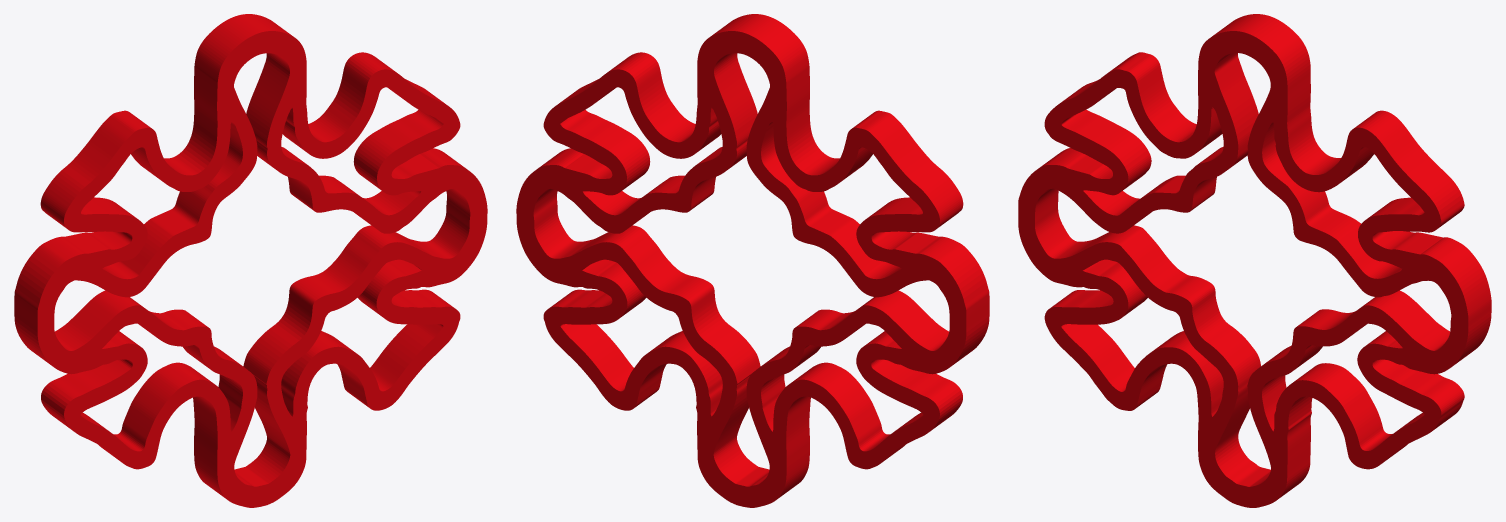
3 renders of one model, left to right at view 1: azimuth 30°, elevation 25°; view 2: azimuth 150°, elevation 25°; view 3: azimuth 330°, elevation 25°, orthographic.
Visible parts, largest first — view 1: Super Bombul; view 2: Super Bombul; view 3: Super Bombul.
Boxes of the visible parts, left/top/right/bottom form: Super Bombul: left=14, top=14, right=487, bottom=507; Super Bombul: left=516, top=14, right=989, bottom=507; Super Bombul: left=1018, top=14, right=1491, bottom=507.
Bounding box in the file's own units: 2.24 × 2.26 × 0.2.
